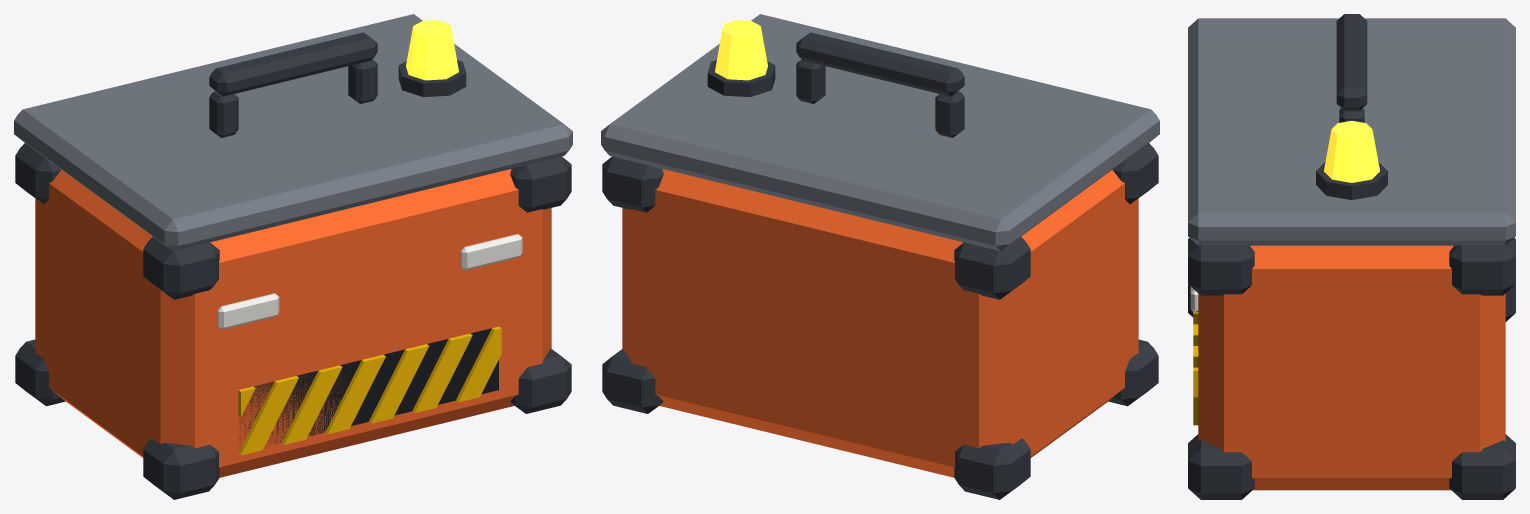
The model's file is test_crate.glb.
3 renders of one model, left to right at view 1: azimuth 30°, elevation 25°; view 2: azimuth 150°, elevation 25°; view 3: azimuth 270°, elevation 25°, orthographic. The views are drawn at different scales.
Parts seen in each view (by area): view 1: test_crate; view 2: test_crate; view 3: test_crate.
Part boxes in pixels (x1,y1,x2,y2): test_crate: [14, 14, 572, 499]; test_crate: [601, 14, 1159, 499]; test_crate: [1188, 14, 1515, 499].
Size of the model in its own units: 0.94 by 0.76 by 0.64.
